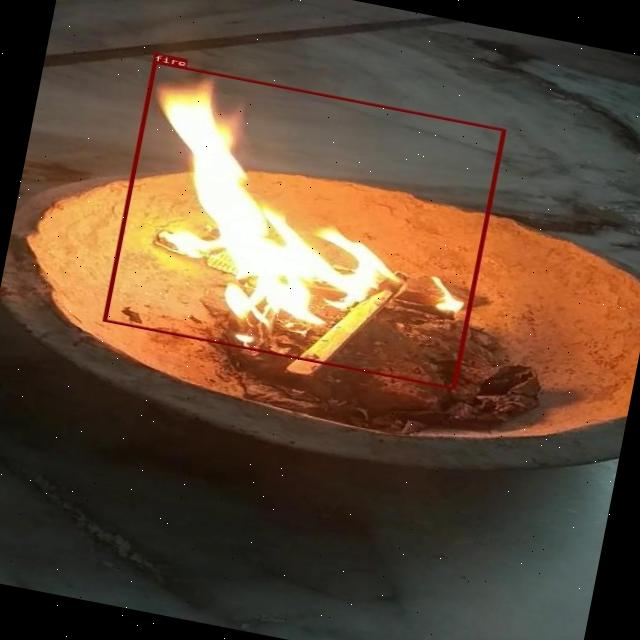fire: (102, 60, 506, 390)
